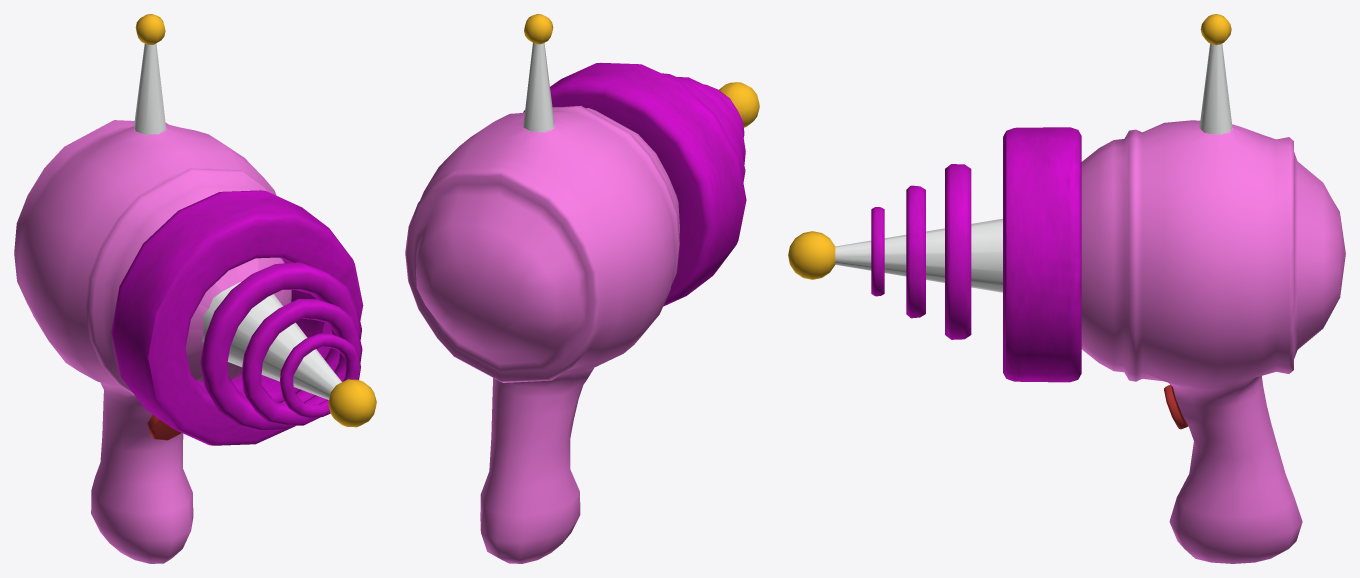
Rendered from PEM_Pistol_FBX.fbx.
3 views of the same model, side by side, from view 1: azimuth 30°, elevation 25°; view 2: azimuth 150°, elevation 25°; view 3: azimuth 270°, elevation 25° (orthographic). The views are drawn at different scales.
Parts seen in each view (by area): view 1: PEM_Pistol:cuerpo8; view 2: PEM_Pistol:cuerpo8; view 3: PEM_Pistol:cuerpo8.
Part boxes in pixels (left/top/right/bottom): PEM_Pistol:cuerpo8: left=14, top=14, right=376, bottom=563; PEM_Pistol:cuerpo8: left=405, top=14, right=759, bottom=563; PEM_Pistol:cuerpo8: left=788, top=14, right=1345, bottom=563.
Size of the model in its own units: 11.02 by 24.49 by 22.72.
1 material, 1 textured.
